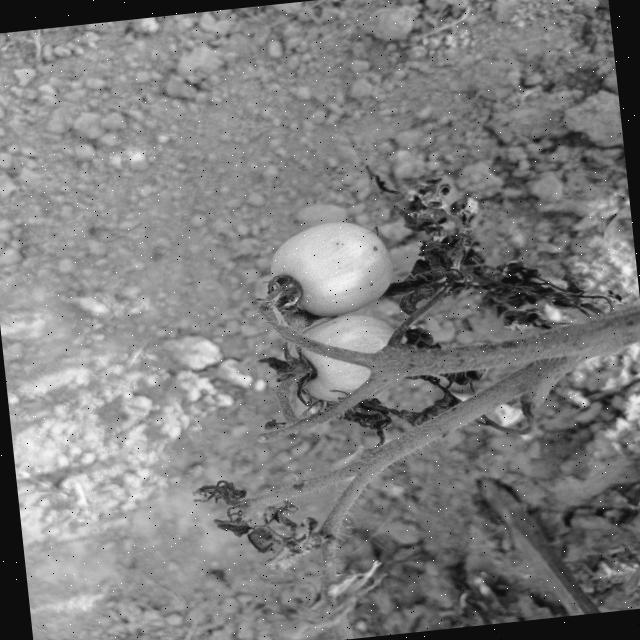Unripe: (256, 216, 399, 322)
